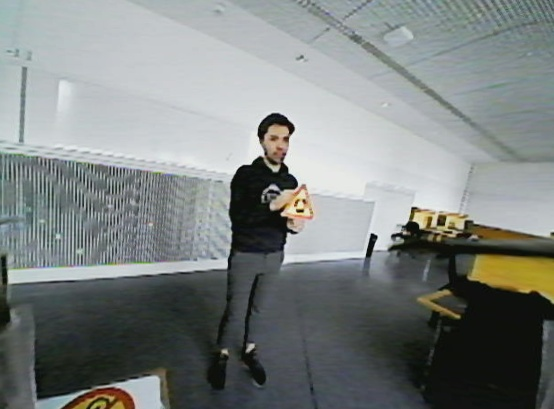roundabout_warning: (278, 181, 314, 222)
